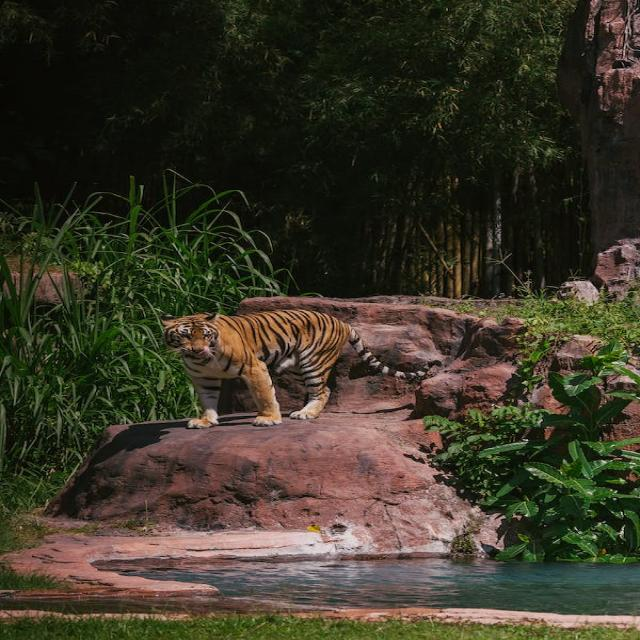not_pig: (157, 306, 437, 429)
